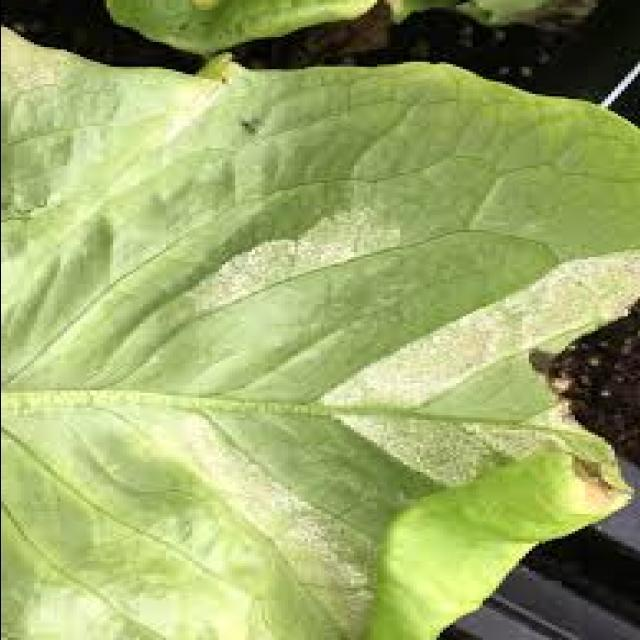Powdery_mildew_on_lettuce: (181, 201, 521, 512)
